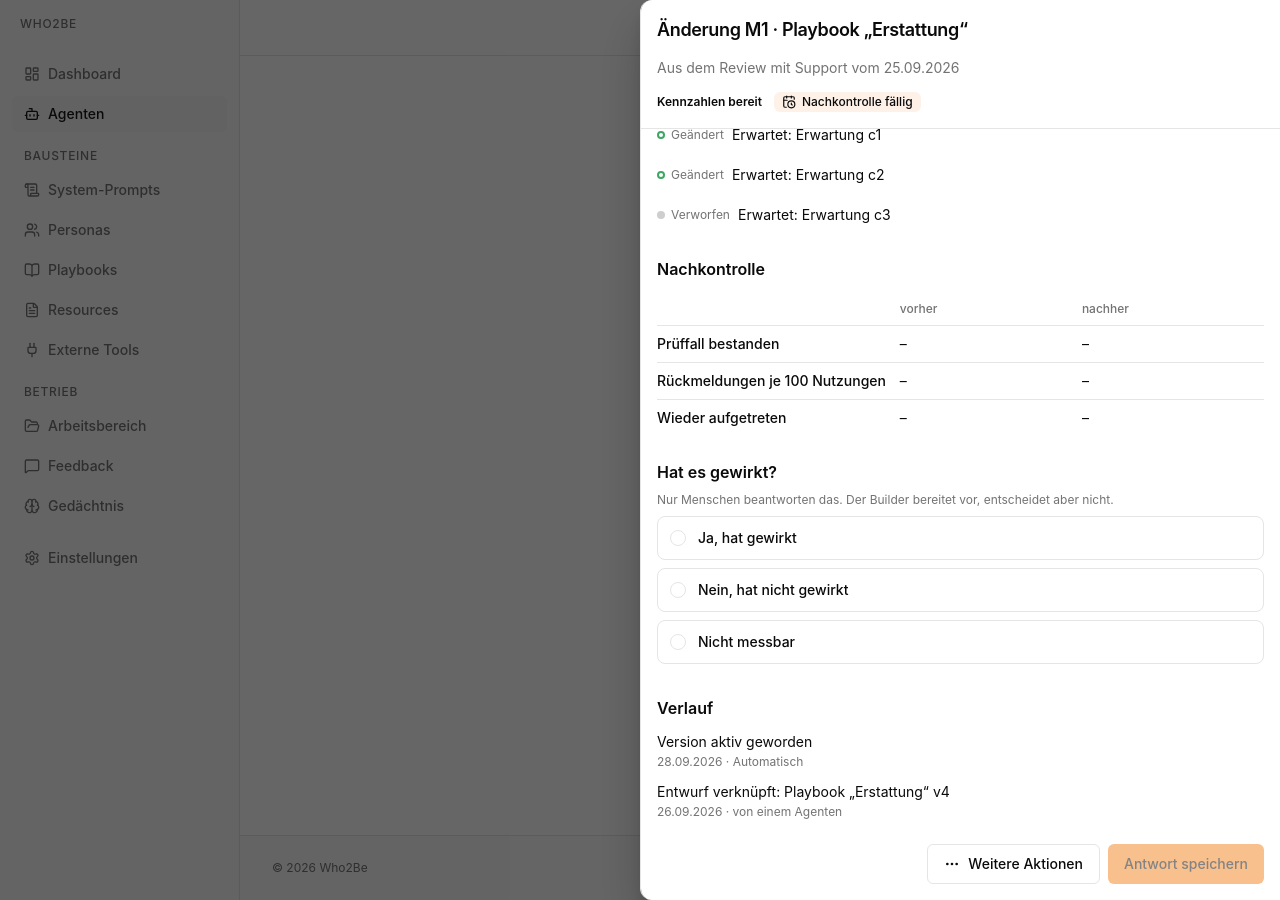
Test: ChangeActions: Leiste je Zustand › follow_up_prepared: brand „Antwort speichern“ (aus, bis eine Antwort gewählt ist), im Menü nur „Zurückziehen…“
(page scrolled)
Expected: the element with test id "change-review" is shown, x1=657 y1=460 x2=1264 y2=672
Expected: the button "Antwort speichern" is disabled, x1=1108 y1=844 x2=1264 y2=884
Press the mouse on the button with test id "change-more" at (1014, 864), box x1=927 y1=844 x2=1100 y2=884
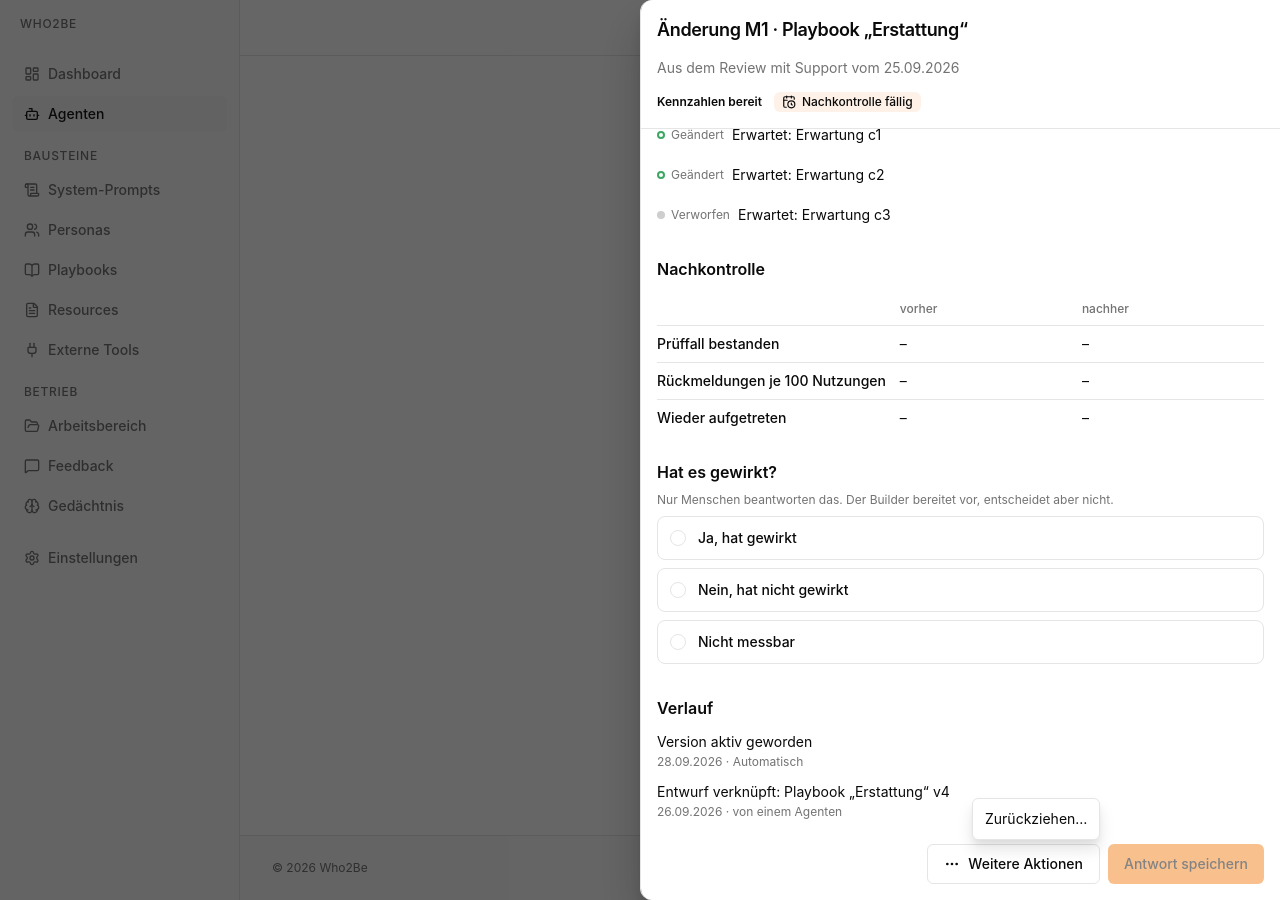
Now the menu items read "Zurückziehen…", in this order, box x1=985 y1=810 x2=1087 y2=827
